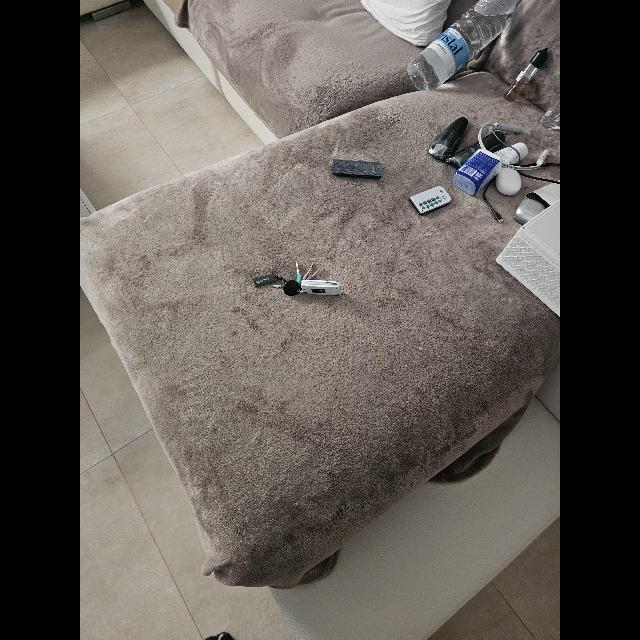Keys: (252, 264, 340, 296)
